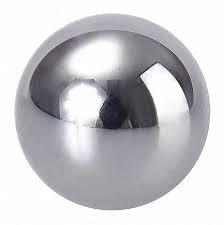steelball: (9, 9, 220, 215)
